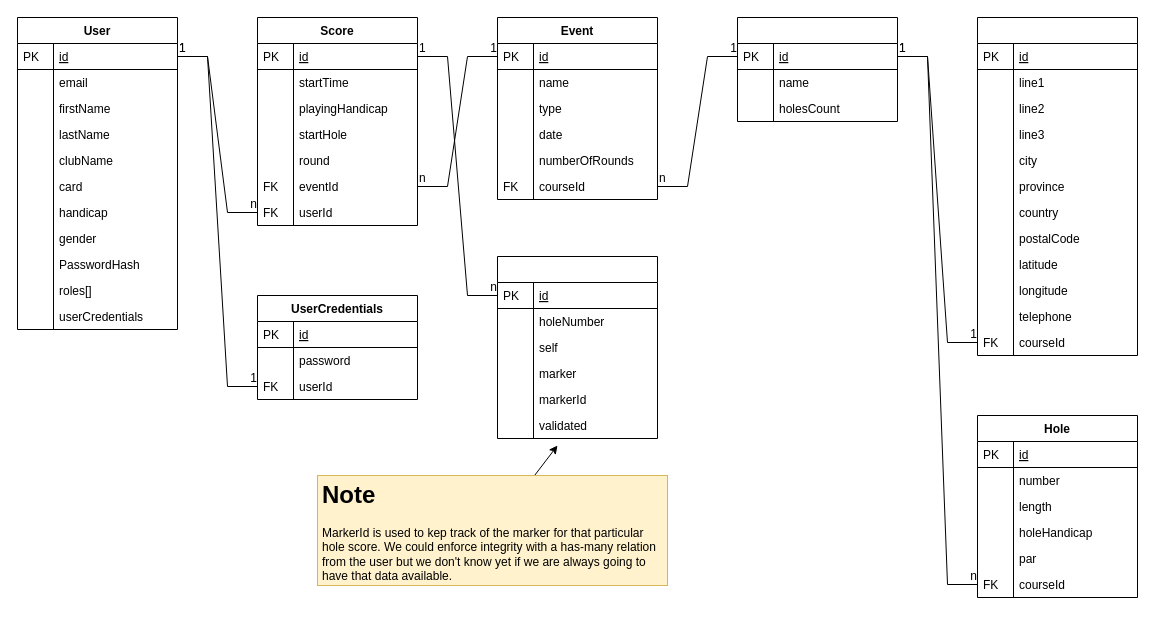
This 1155x618 diagram has some shape labels left out. Each missing label, with the box of its shape:
Address: (976, 16, 1138, 356)
Course: (736, 16, 898, 122)
HoleScore: (496, 256, 658, 438)
